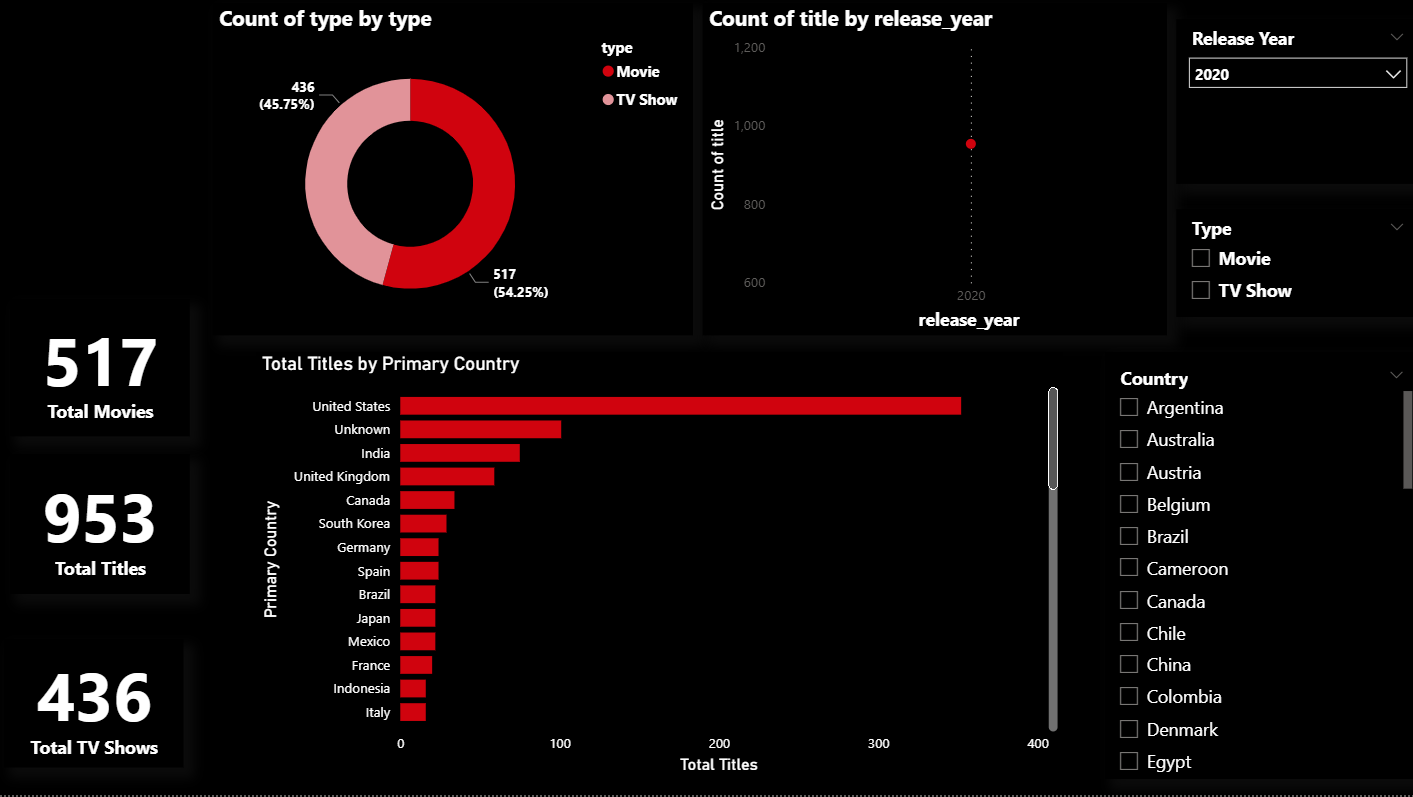

This screenshot's page, from the dashboard's own definition file:
{"tool":"powerbi","page":{"name":"Page 1","canvas":[1280,720],"ordinal":0},"visuals":[{"type":"card","fields":{"Values":["netflix_titles.Total Movies"]},"box":[9.8,272.6,161.4,123.5],"z":0},{"type":"card","fields":{"Values":["netflix_titles.Total Titles"]},"box":[9.8,412,161.4,125.9],"z":1000},{"type":"card","fields":{"Values":["netflix_titles.Total TV Shows"]},"box":[4.9,579.4,161.4,114.9],"z":2000},{"type":"donutChart","fields":{"Category":["netflix_titles.type"],"Y":["CountNonNull(netflix_titles.type)"]},"box":[193.1,6.1,432.7,299.5],"z":3000},{"type":"lineChart","fields":{"Category":["netflix_titles.release_year"],"Y":["CountNonNull(netflix_titles.title)"]},"box":[634.4,6.1,418.1,299.5],"z":4000},{"type":"clusteredBarChart","fields":{"Y":["netflix_titles.Total Titles"],"Category":["netflix_titles.Primary Country"]},"box":[232.3,320.3,727.3,385.1],"z":5000},{"type":"slicer","fields":{"Values":["netflix_titles.type"]},"box":[1061.1,191.9,218.8,96.6],"z":6000},{"type":"slicer","fields":{"Values":["netflix_titles.release_year"]},"box":[1061.1,20.8,218.8,147.9],"z":7000},{"type":"slicer","fields":{"Values":["netflix_titles.Primary Country"]},"box":[997.5,320.3,282.4,385.1],"z":8000}]}

Visuals, with their boxes in screenshot pixels (x1, y1, x2, y2), scaled from the page's 1280x720 canvas onto the 1413x797 screenshot:
card - netflix_titles.Total Movies: <bbox>11, 302, 189, 438</bbox>
card - netflix_titles.Total Titles: <bbox>11, 456, 189, 595</bbox>
card - netflix_titles.Total TV Shows: <bbox>5, 641, 184, 769</bbox>
donutChart - netflix_titles.type x CountNonNull(netflix_titles.type): <bbox>213, 7, 691, 338</bbox>
lineChart - netflix_titles.release_year x CountNonNull(netflix_titles.title): <bbox>700, 7, 1162, 338</bbox>
clusteredBarChart - netflix_titles.Total Titles x netflix_titles.Primary Country: <bbox>256, 355, 1059, 781</bbox>
slicer - netflix_titles.type: <bbox>1171, 212, 1412, 319</bbox>
slicer - netflix_titles.release_year: <bbox>1171, 23, 1412, 187</bbox>
slicer - netflix_titles.Primary Country: <bbox>1101, 355, 1412, 781</bbox>
